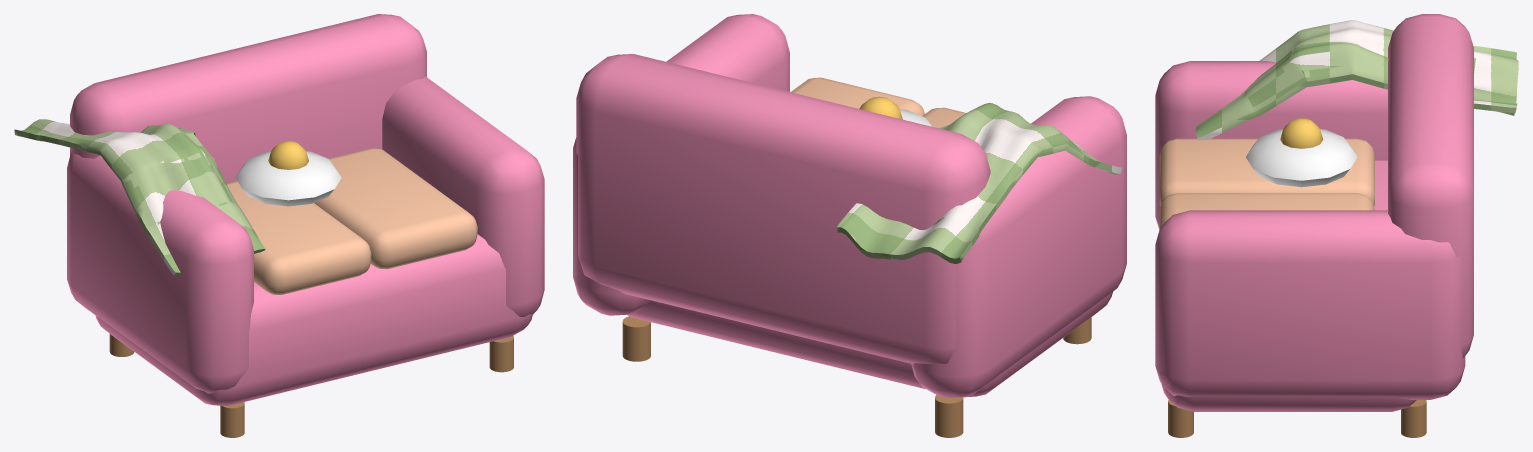
The model's file is sofa.glb.
3 views of the same model, side by side, from view 1: azimuth 30°, elevation 25°; view 2: azimuth 150°, elevation 25°; view 3: azimuth 270°, elevation 25° (orthographic). The views are drawn at different scales.
Parts seen in each view (by area): view 1: sofa; view 2: sofa; view 3: sofa.
Boxes of the visible parts, box(x1,y1,x2,y2) form: sofa: box(14, 14, 544, 437); sofa: box(573, 14, 1126, 437); sofa: box(1155, 14, 1518, 437).
Size of the model in its own units: 1.05 by 0.7 by 0.8437.
Materials: 6 (1 with a texture image).
